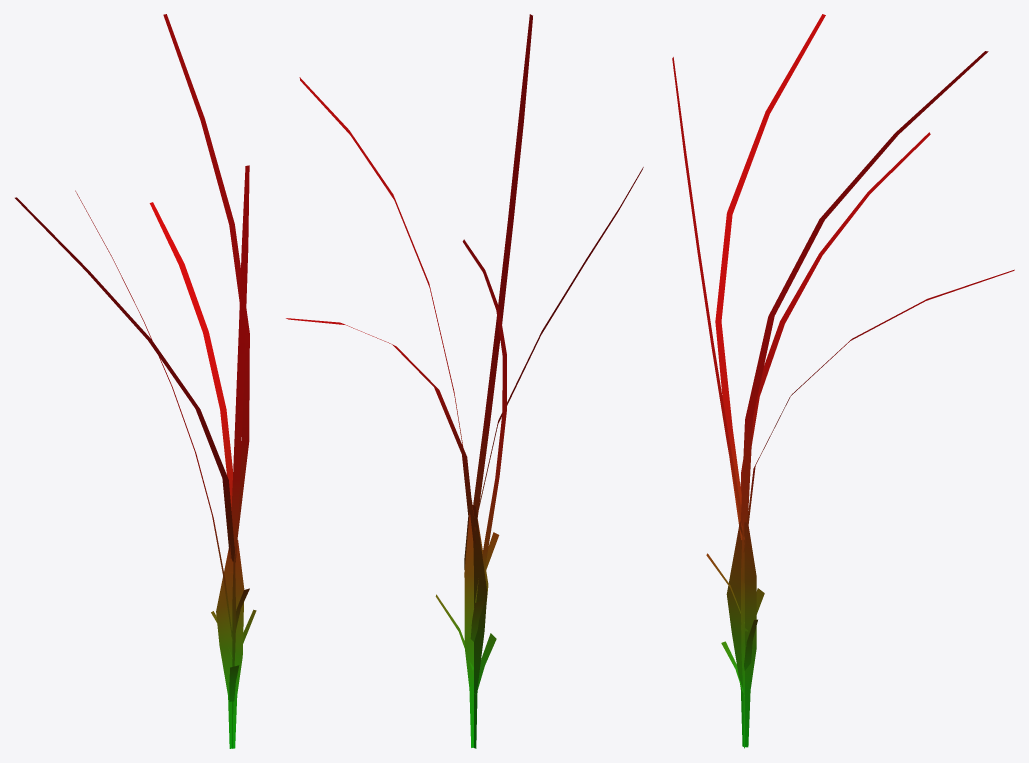
The model's file is Sea Wheatgrass_LOD2_Var6_ui2oagjia.fbx.
The picture shows the model from 3 angles, left to right: view 1: azimuth 30°, elevation 25°; view 2: azimuth 150°, elevation 25°; view 3: azimuth 270°, elevation 25°; orthographic projection. The views are drawn at different scales.
Parts seen in each view (by area): view 1: _m1mt_Var6_LOD2; view 2: _m1mt_Var6_LOD2; view 3: _m1mt_Var6_LOD2.
Boxes of the visible parts, bbox=[...] form: _m1mt_Var6_LOD2: bbox=[15, 14, 256, 748]; _m1mt_Var6_LOD2: bbox=[286, 14, 643, 748]; _m1mt_Var6_LOD2: bbox=[672, 14, 1014, 748].
Bounding box in the file's own units: 22.31 × 61.51 × 26.54.
